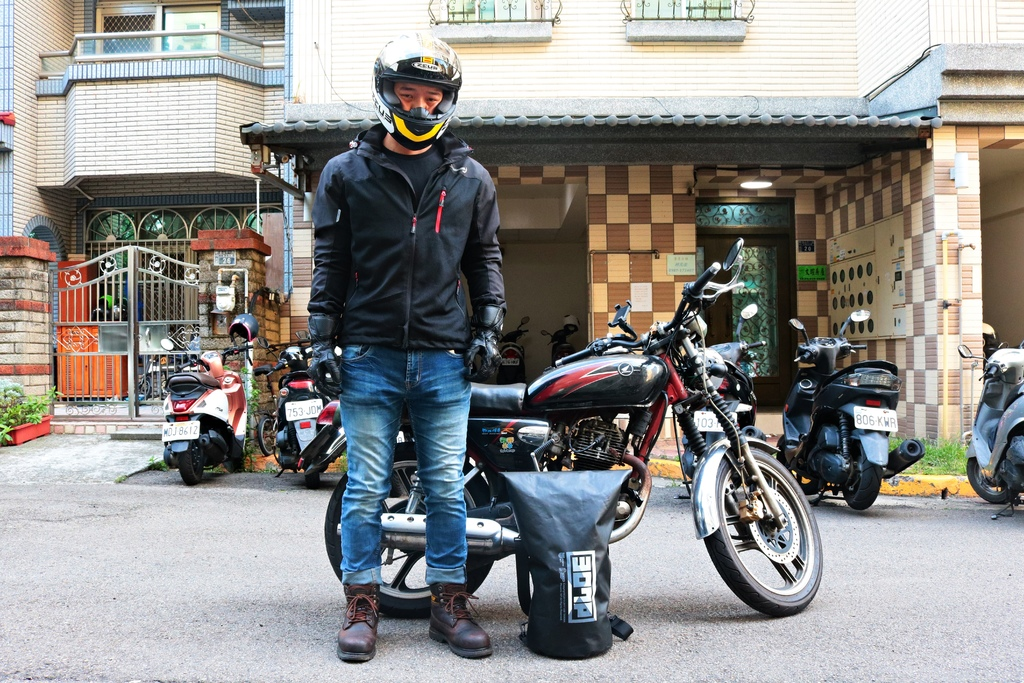helmet: (374, 38, 467, 140)
